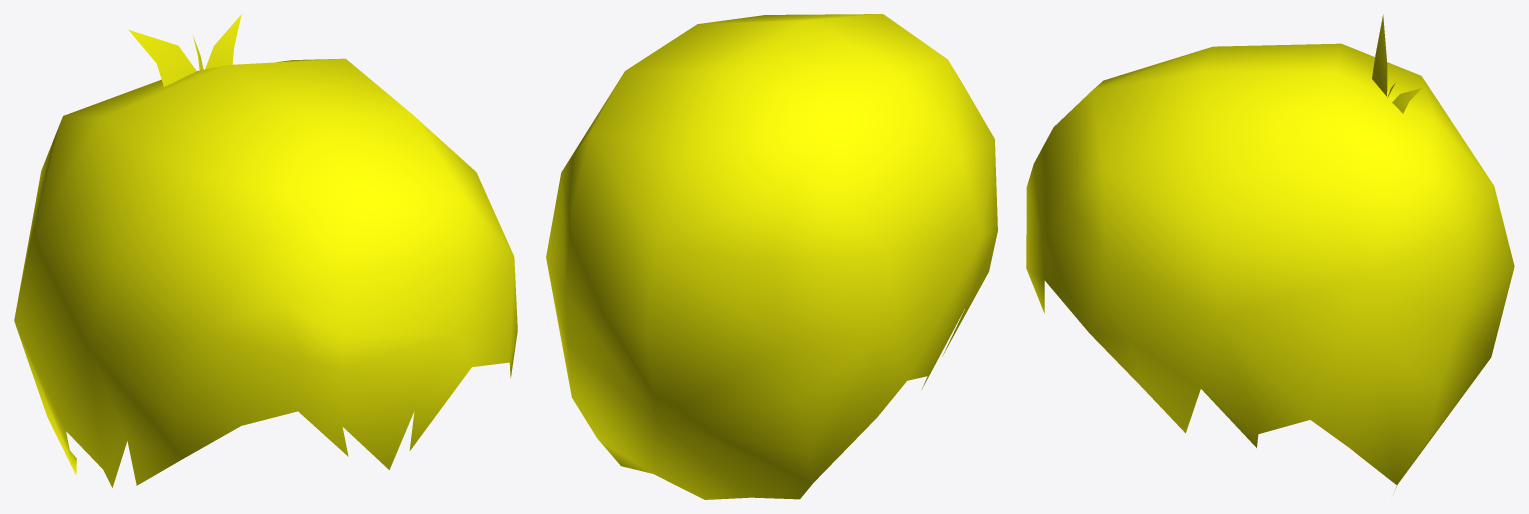
File: hair_bertholdt.glb
3 views of the same model, side by side, from view 1: azimuth 30°, elevation 25°; view 2: azimuth 150°, elevation 25°; view 3: azimuth 270°, elevation 25° (orthographic). The views are drawn at different scales.
Parts seen in each view (by area): view 1: hair_bertholdt; view 2: hair_bertholdt; view 3: hair_bertholdt.
Boxes of the visible parts, x1,y1,x2,y2 form: hair_bertholdt: [14, 14, 517, 487]; hair_bertholdt: [546, 14, 997, 499]; hair_bertholdt: [1026, 14, 1514, 491].
Size of the model in its own units: 0.5487 by 0.6164 by 0.6456.
Materials: 1 (1 with a texture image).
